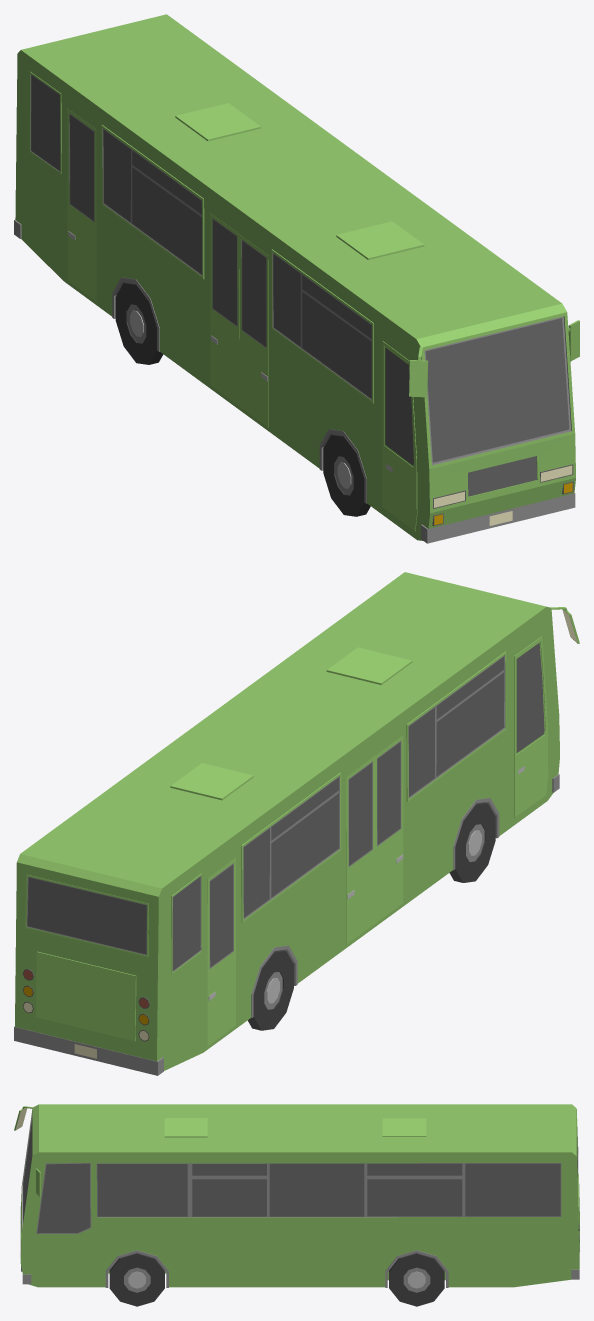
File: bus_2.fbx
3 renders of one model, top to bottom at view 1: azimuth 30°, elevation 25°; view 2: azimuth 150°, elevation 25°; view 3: azimuth 270°, elevation 25°, orthographic. The views are drawn at different scales.
Parts seen in each view (by area): view 1: vty, Cylinder_2_3, Cylinder_2_1; view 2: vty, Cylinder_2_1, Cylinder_2_3; view 3: vty, Cylinder_2, Cylinder_2_2.
Boxes of the visible parts, x1,y1,x2,y2 form: vty: (14, 14, 579, 543); Cylinder_2_3: (115, 282, 163, 364); Cylinder_2_1: (323, 434, 370, 516); vty: (14, 572, 579, 1075); Cylinder_2_1: (449, 802, 495, 882); Cylinder_2_3: (248, 950, 293, 1030); vty: (14, 1104, 579, 1287); Cylinder_2: (109, 1253, 164, 1306); Cylinder_2_2: (389, 1253, 444, 1306).
Bounding box in the file's own units: 219 × 261 × 862.
